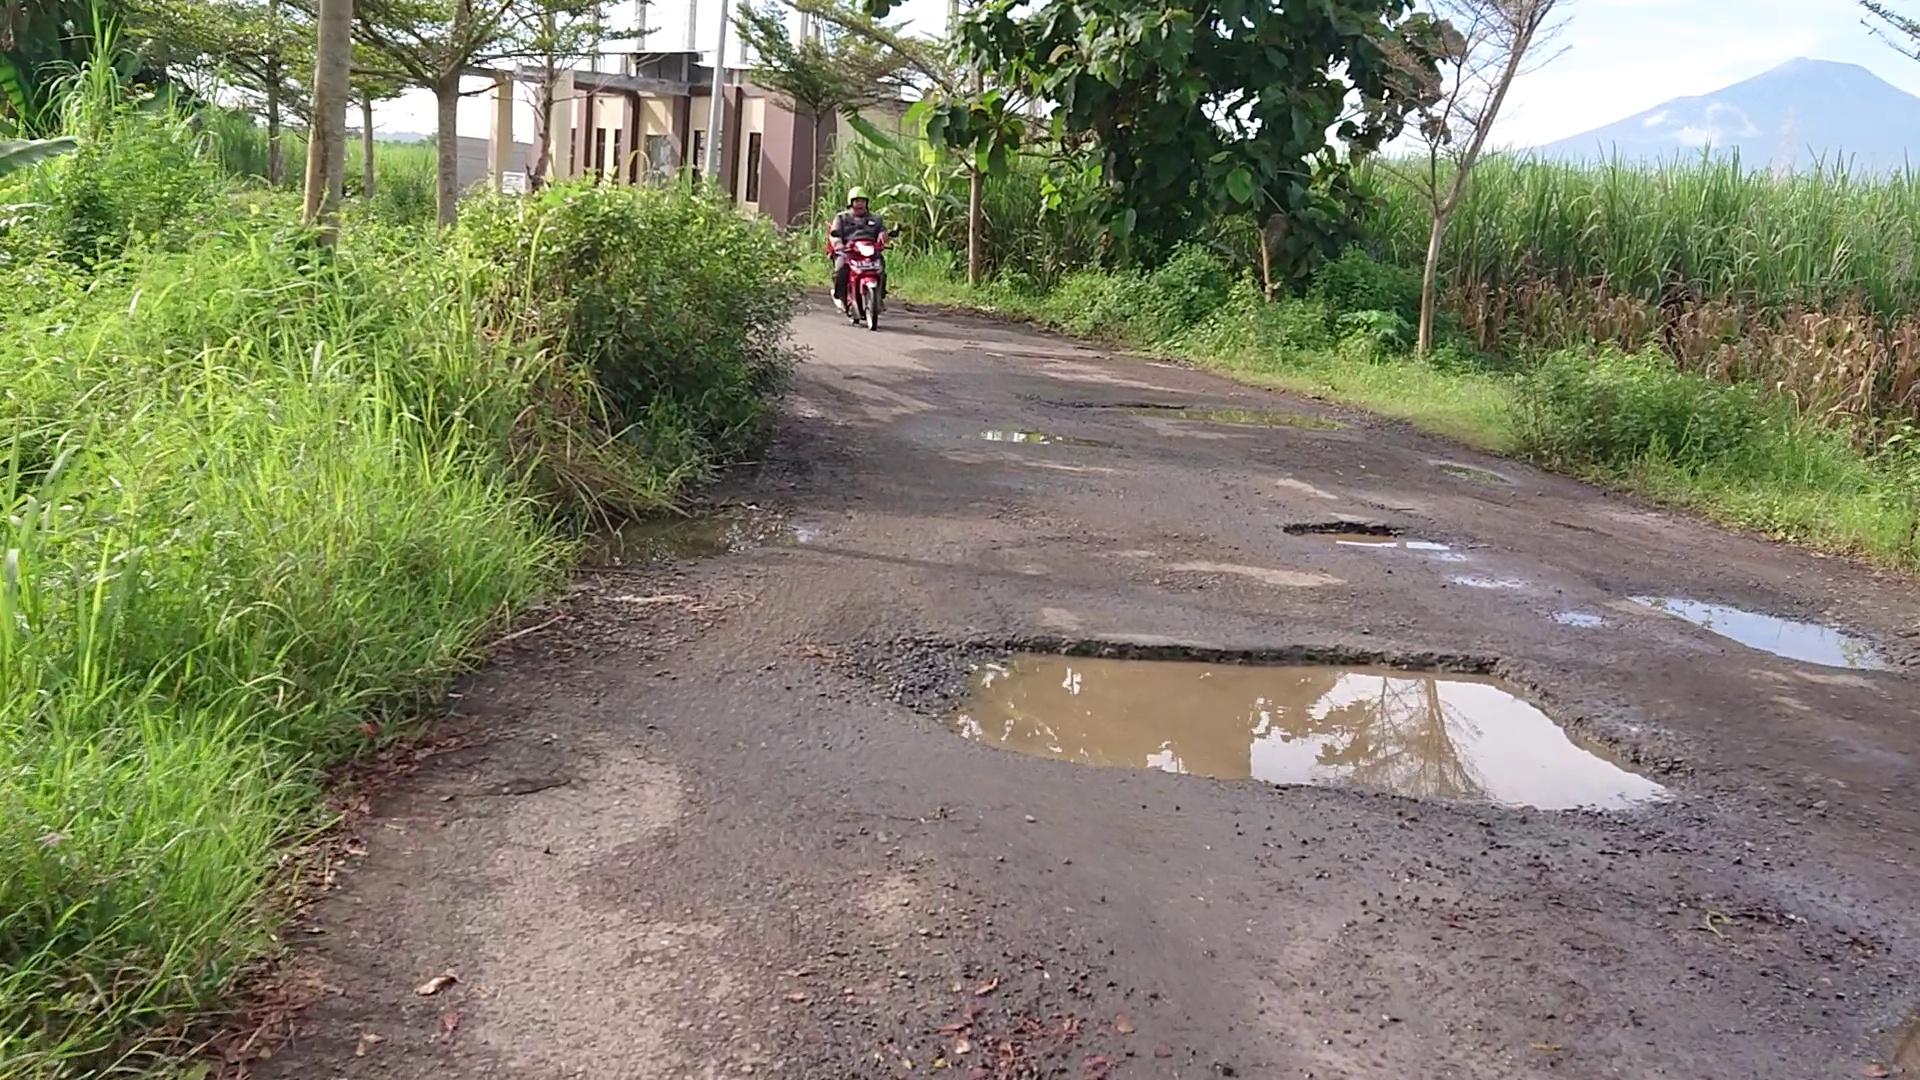Berlubang: (957, 645, 1652, 812), (1644, 582, 1880, 670), (1143, 402, 1340, 434), (1288, 524, 1469, 556)
